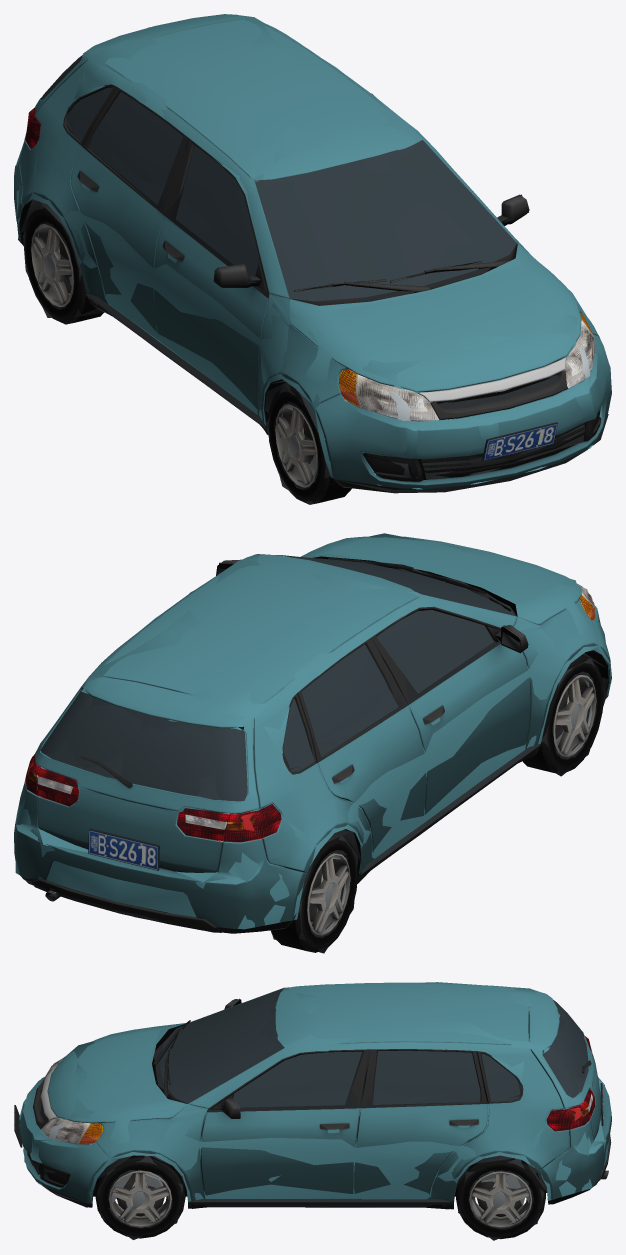
File: mini.glb
3 renders of one model, top to bottom at view 1: azimuth 30°, elevation 25°; view 2: azimuth 150°, elevation 25°; view 3: azimuth 270°, elevation 25°, orthographic. The views are drawn at different scales.
Visible parts, largest first — view 1: hatchback coachwork, Distant hatchback, wheel_LR, wheel_LF, Plate front; view 2: hatchback coachwork, Distant hatchback, wheel_LR, wheel_LF, Plate rear; view 3: hatchback coachwork, Distant hatchback, wheel_RF, wheel_RR.
Boxes of the visible parts, box(x1,y1,x2,y2) form: hatchback coachwork: box(14, 14, 611, 492); Distant hatchback: box(16, 15, 610, 504); wheel_LR: box(24, 207, 103, 324); wheel_LF: box(268, 385, 351, 504); Plate front: box(482, 422, 557, 460); hatchback coachwork: box(14, 536, 611, 933); Distant hatchback: box(15, 533, 611, 953); wheel_LR: box(270, 835, 357, 952); wheel_LF: box(523, 655, 603, 772); Plate rear: box(88, 828, 159, 870); hatchback coachwork: box(18, 982, 611, 1209); Distant hatchback: box(14, 982, 609, 1240); wheel_RF: box(95, 1155, 185, 1238); wheel_RR: box(456, 1158, 545, 1239).
Bounding box in the file's own units: 1.96 × 1.52 × 4.49.
14 materials, 4 textured.
